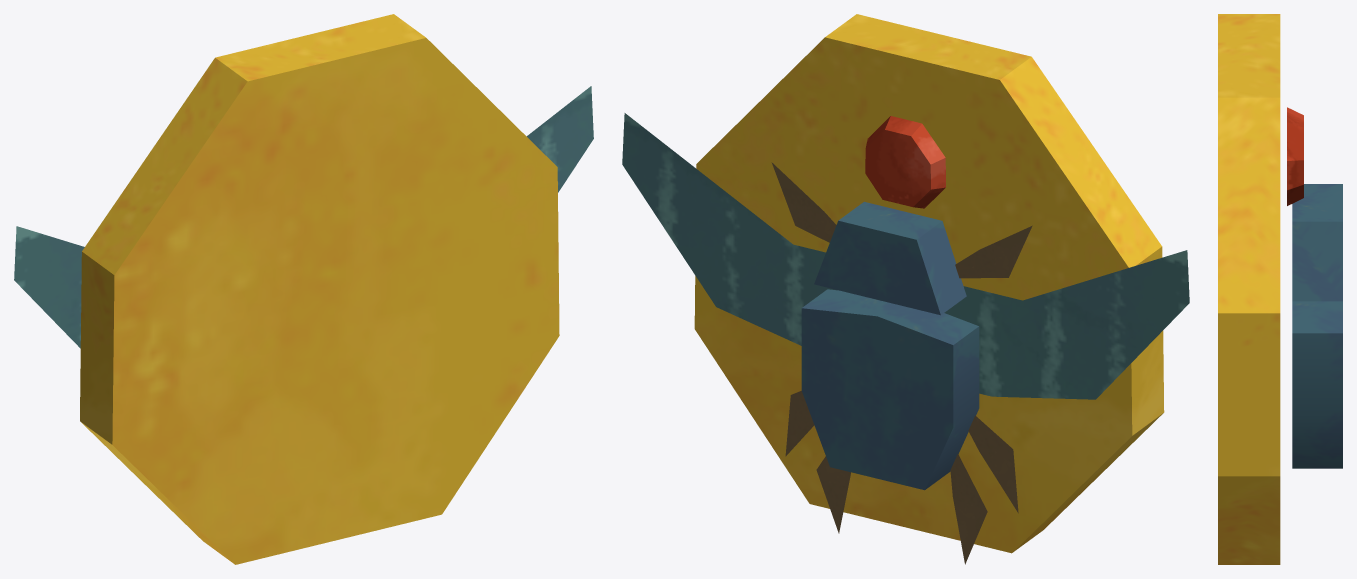
File: SM_scarab.fbx
The picture shows the model from 3 angles, left to right: view 1: azimuth 30°, elevation 25°; view 2: azimuth 150°, elevation 25°; view 3: azimuth 270°, elevation 25°; orthographic projection. The views are drawn at different scales.
Visible parts, largest first — view 1: scarab; view 2: scarab; view 3: scarab.
Part boxes in pixels (bbox=[...]): scarab: bbox=[14, 14, 593, 564]; scarab: bbox=[622, 14, 1189, 564]; scarab: bbox=[1218, 14, 1342, 564].
Bounding box in the file's own units: 11.68 × 9.57 × 2.28.
